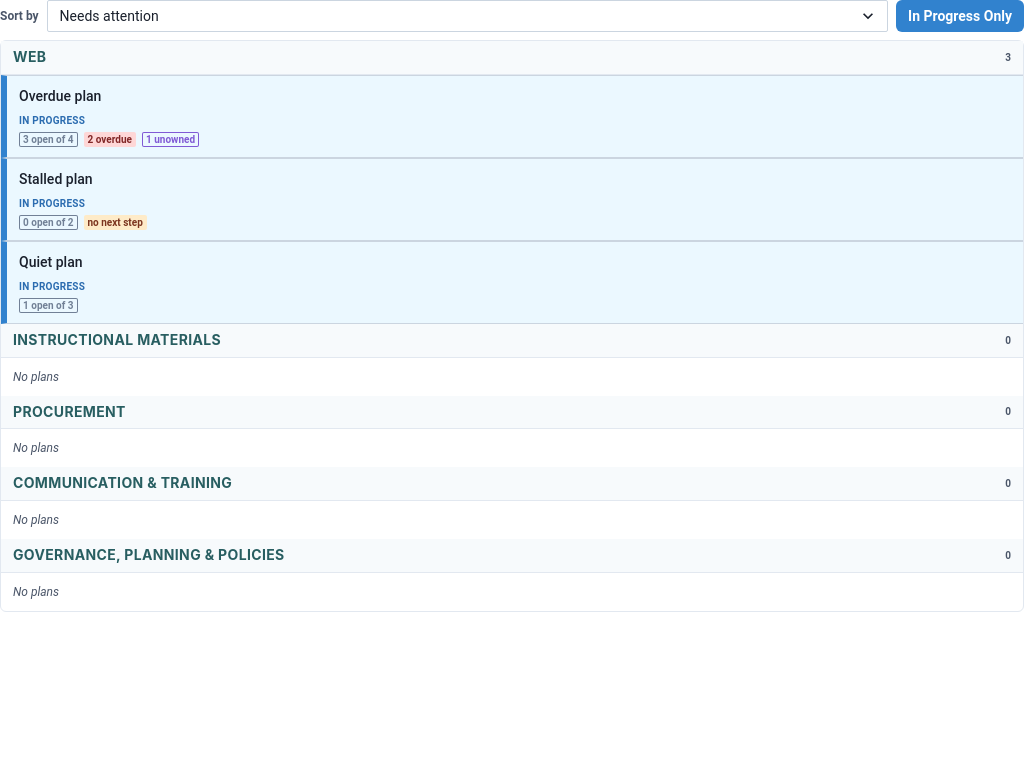
it: PlansList › still narrows to In Progress by default and can widen
The image size is (1024, 768).
expect the text "Finished plan" is not shown: met
Click the button "In Progress Only".
click(960, 16)  # box x1=896 y1=0 x2=1023 y2=32
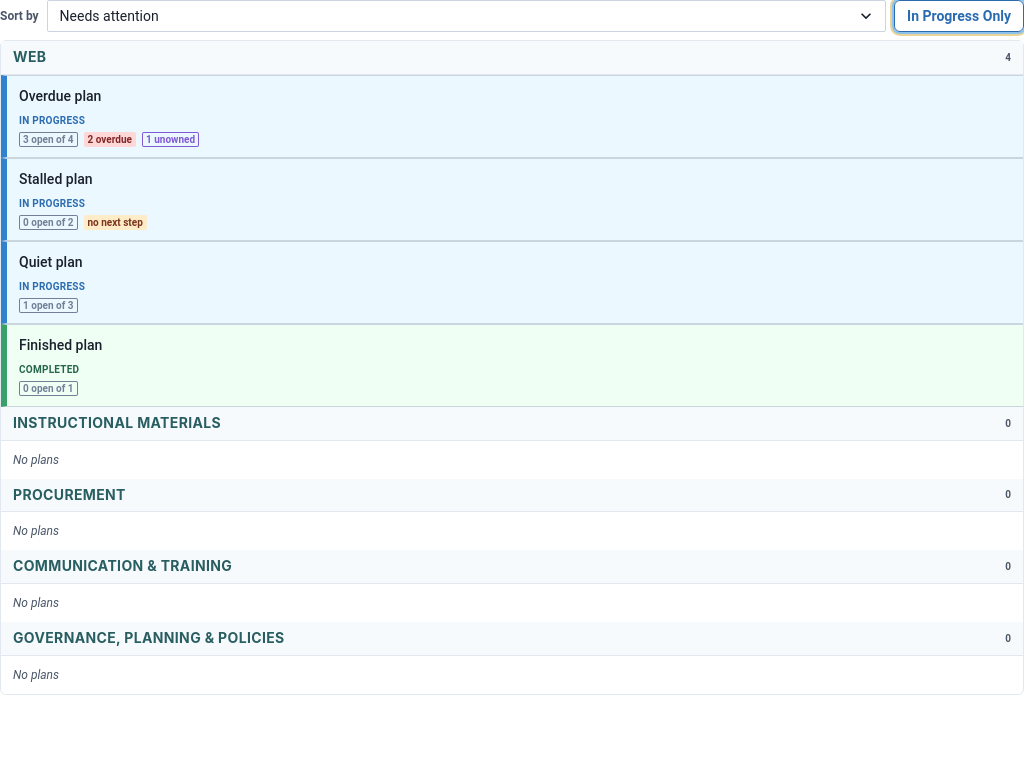
expect the text "Finished plan" is shown: met, box x1=19 y1=337 x2=102 y2=353
